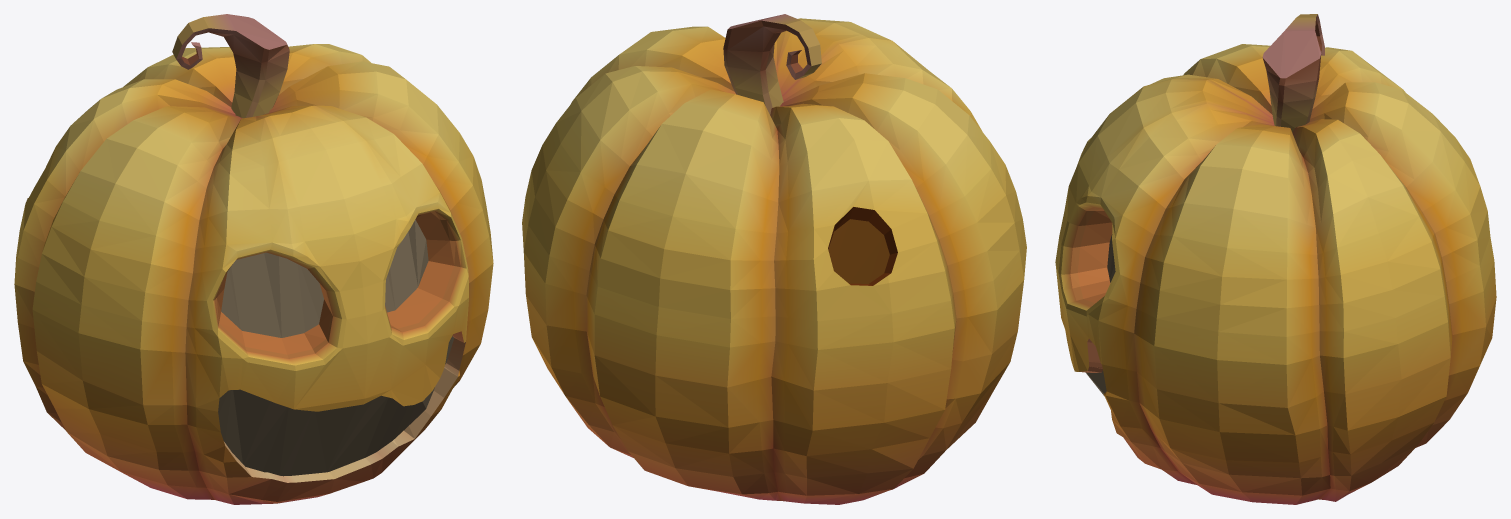
The model's file is ZombieBenHelmet.glb.
The picture shows the model from 3 angles, left to right: view 1: azimuth 30°, elevation 25°; view 2: azimuth 150°, elevation 25°; view 3: azimuth 270°, elevation 25°; orthographic projection. The views are drawn at different scales.
Parts seen in each view (by area): view 1: ZombieBenHelmet; view 2: ZombieBenHelmet; view 3: ZombieBenHelmet.
Part boxes in pixels (<box>): ZombieBenHelmet: <box>14,14,493,504</box>; ZombieBenHelmet: <box>522,14,1026,504</box>; ZombieBenHelmet: <box>1055,14,1496,504</box>.
Size of the model in its own units: 0.691 by 0.6681 by 0.6262.
